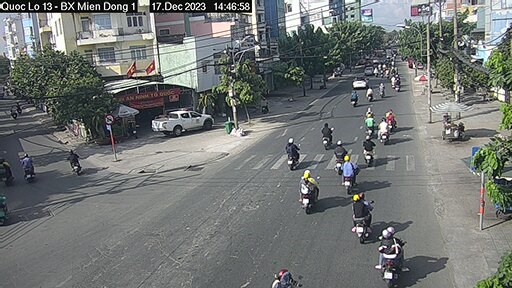car: (143, 109, 222, 135)
motorbike: (374, 221, 405, 284), (349, 191, 375, 241), (297, 170, 318, 209), (60, 150, 85, 179), (337, 157, 358, 190), (284, 134, 302, 168), (330, 139, 346, 177), (358, 134, 378, 163), (319, 124, 337, 147)
